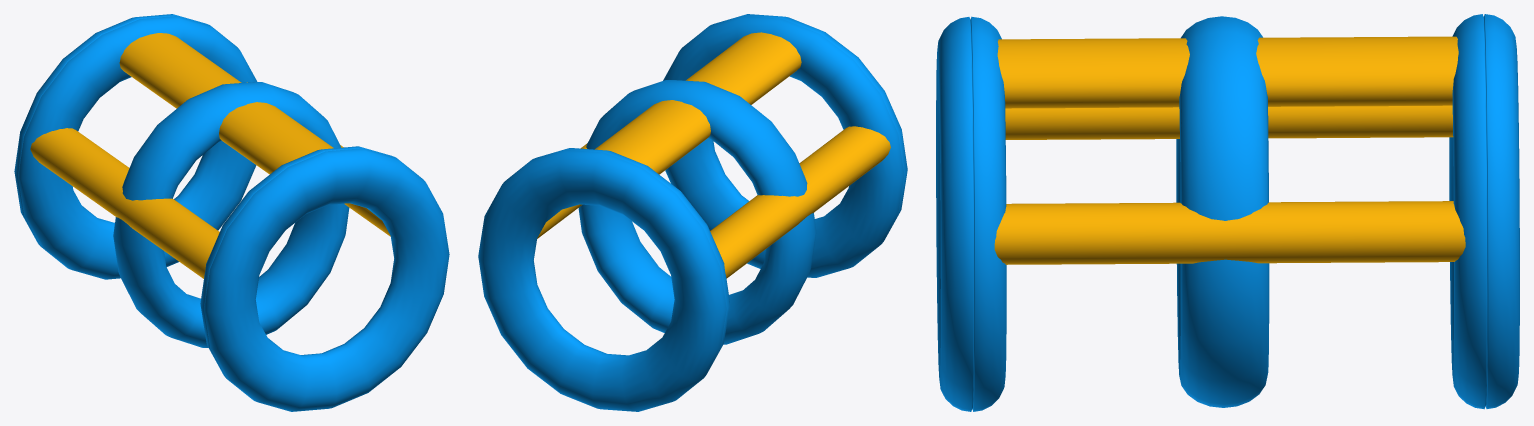
Rendered from PlataformaCilindro3Alturas.fbx.
3 renders of one model, left to right at view 1: azimuth 30°, elevation 25°; view 2: azimuth 150°, elevation 25°; view 3: azimuth 270°, elevation 25°, orthographic. The views are drawn at different scales.
Parts seen in each view (by area): view 1: polySurface2369, polySurface2366, polySurface2370, polySurface2367, polySurface2365, polySurface2368; view 2: polySurface2370, polySurface2366, polySurface2369, polySurface2367, polySurface2365, polySurface2368; view 3: polySurface2366, polySurface2368, polySurface2367, polySurface2369, polySurface2370, polySurface2365.
Boxes of the visible parts, box(x1,y1,x2,y2) form: polySurface2369: box(200, 146, 449, 411); polySurface2366: box(113, 82, 349, 347); polySurface2370: box(14, 14, 257, 279); polySurface2367: box(119, 33, 333, 174); polySurface2365: box(30, 128, 219, 278); polySurface2368: box(247, 82, 390, 236); polySurface2370: box(478, 148, 729, 411); polySurface2366: box(578, 80, 816, 344); polySurface2369: box(663, 14, 907, 277); polySurface2367: box(595, 32, 801, 174); polySurface2365: box(710, 126, 890, 278); polySurface2368: box(537, 143, 587, 238); polySurface2366: box(1176, 16, 1269, 407); polySurface2368: box(994, 201, 1465, 264); polySurface2367: box(997, 36, 1458, 108); polySurface2369: box(936, 16, 1006, 411); polySurface2370: box(1449, 14, 1519, 409); polySurface2365: box(1005, 105, 1453, 139).
Bounding box in the file's own units: 1425 × 1404 × 2057.
